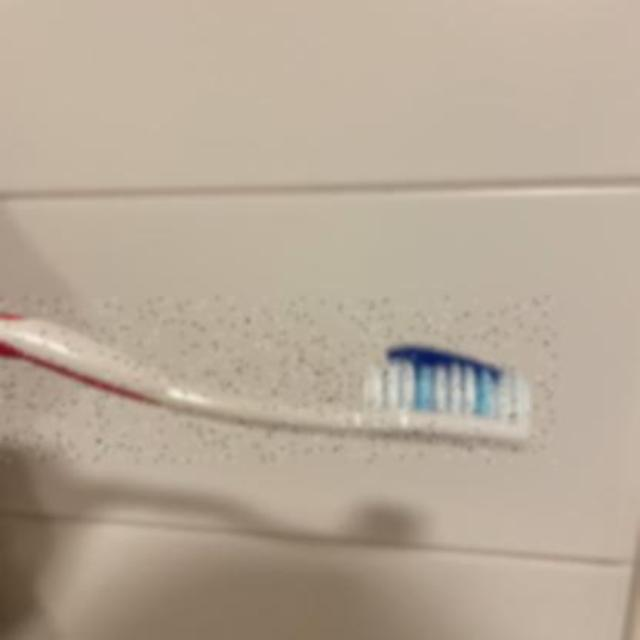toothbrush: (0, 297, 556, 461)
